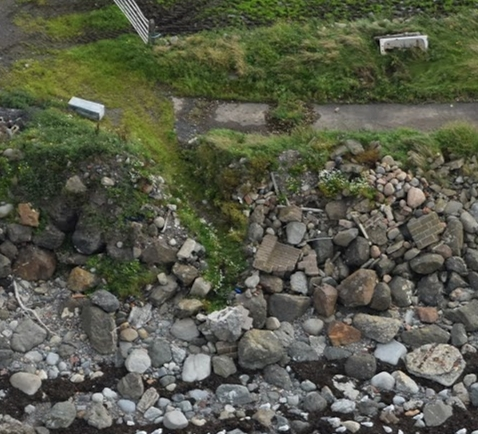cuboid: (373, 21, 438, 59), (63, 89, 109, 128)
white_in_green: (223, 276, 256, 306)
